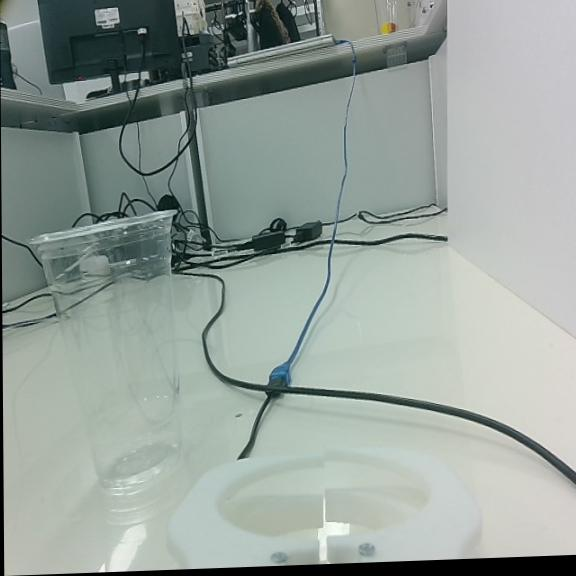Plastik: (32, 212, 181, 494)
